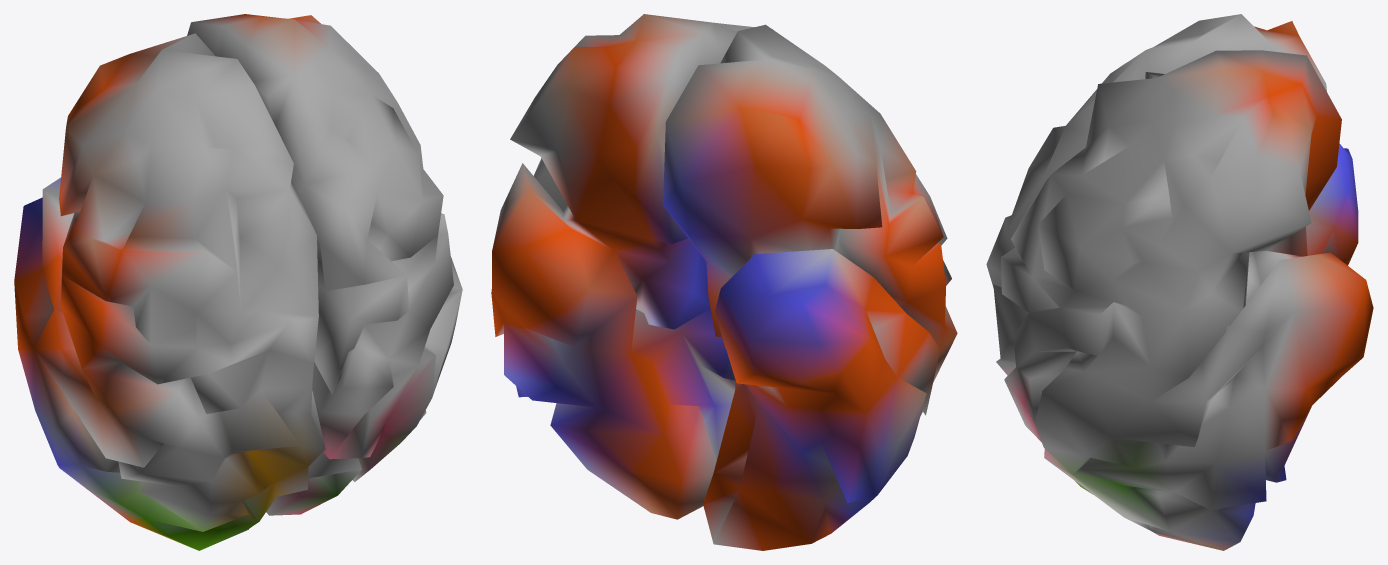
The model's file is brain_1k_colored.obj.
The picture shows the model from 3 angles, left to right: view 1: azimuth 30°, elevation 25°; view 2: azimuth 150°, elevation 25°; view 3: azimuth 270°, elevation 25°; orthographic projection. The views are drawn at different scales.
Bounding box in the file's own units: 137 × 168 × 119.
